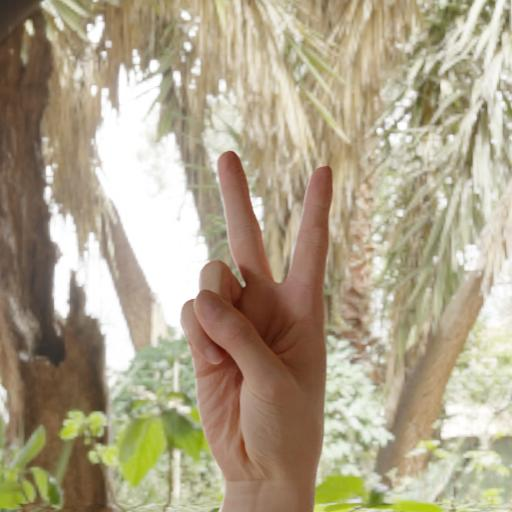V: (164, 147, 354, 512)
